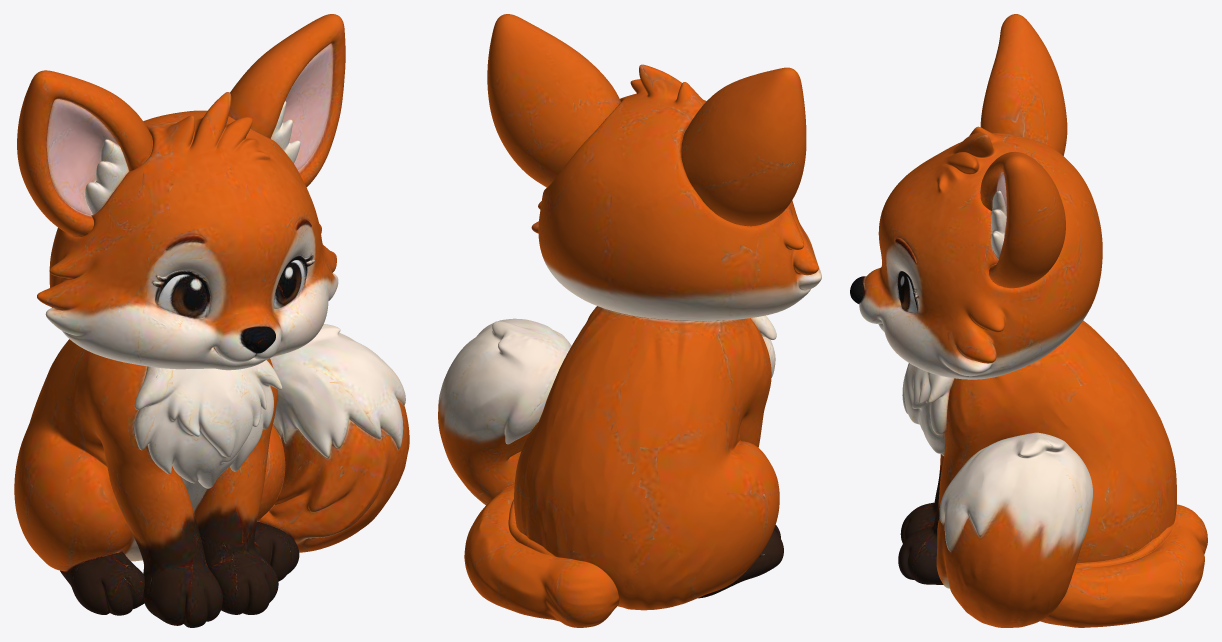
3 renders of one model, left to right at view 1: azimuth 30°, elevation 25°; view 2: azimuth 150°, elevation 25°; view 3: azimuth 270°, elevation 25°, orthographic. The views are drawn at different scales.
Size of the model in its own units: 1.38 by 1.9 by 1.25.
1 material, 1 textured.
